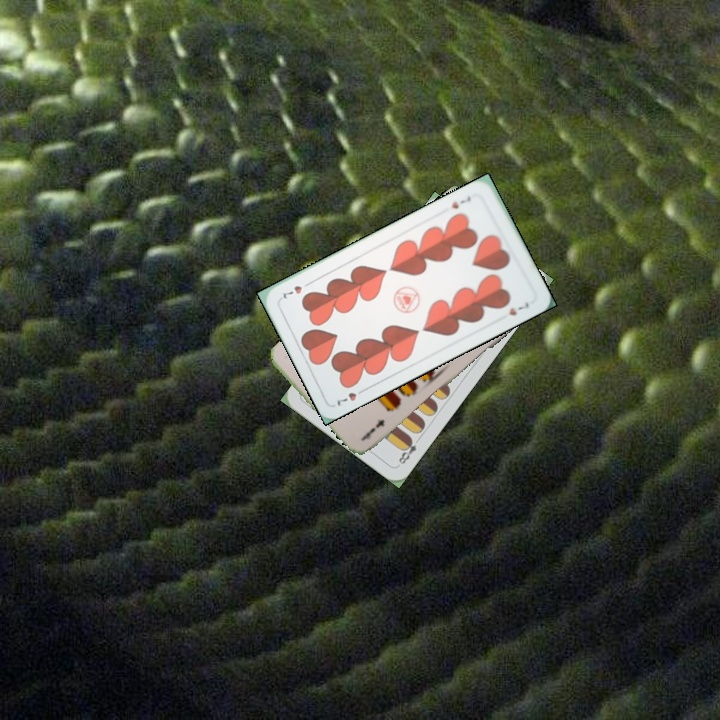E7: (359, 416, 387, 442)
E8: (394, 433, 423, 467)
H7: (333, 384, 369, 408), (447, 192, 474, 211)
